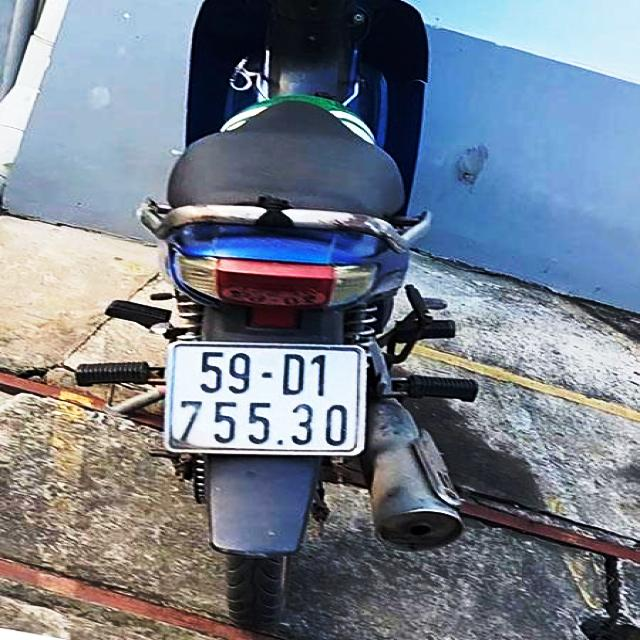license_plate: (165, 345, 364, 457)
